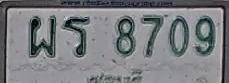0: (168, 16, 189, 56)
7: (141, 16, 163, 56)
8: (115, 16, 135, 56)
9: (194, 16, 214, 56)
A28: (28, 15, 56, 57)
A35: (63, 16, 89, 56)
